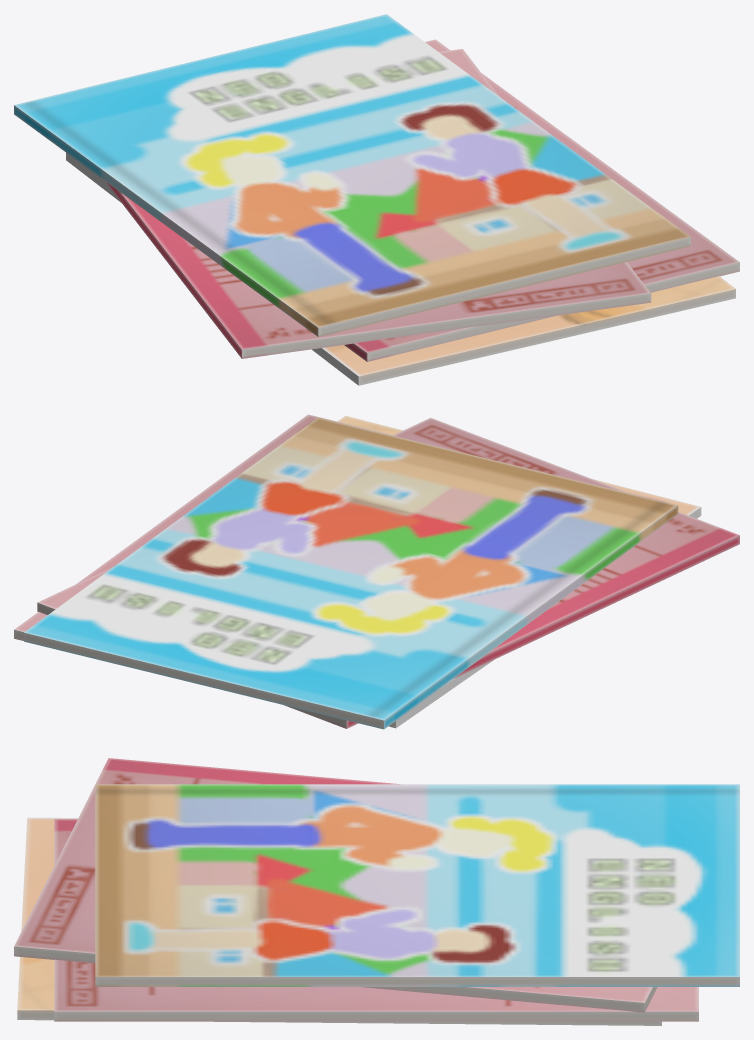
File: Textbook_01_02.fbx
The picture shows the model from 3 angles, top to bottom: view 1: azimuth 30°, elevation 25°; view 2: azimuth 150°, elevation 25°; view 3: azimuth 270°, elevation 25°; orthographic projection. The views are drawn at different scales.
Visible parts, largest first — view 1: textbook04_01, textbook08_02, textbook02_01, textbook08_01; view 2: textbook04_01, textbook08_02, textbook08_01, textbook02_01; view 3: textbook04_01, textbook08_01, textbook08_02, textbook02_01.
Part boxes in pixels (box(x1,y1,x2,y2)): textbook04_01: box(14, 14, 690, 336); textbook08_02: box(105, 49, 651, 358); textbook02_01: box(66, 152, 735, 385); textbook08_01: box(344, 39, 739, 361); textbook04_01: box(24, 417, 678, 729); textbook08_02: box(37, 417, 739, 728); textbook08_01: box(14, 414, 667, 640); textbook02_01: box(337, 415, 701, 728); textbook04_01: box(95, 784, 739, 986); textbook08_01: box(54, 819, 698, 1021); textbook08_02: box(14, 758, 657, 1012); textbook02_01: box(17, 817, 661, 1025).
Size of the model in its own units: 26.7 by 1.96 by 33.44.
